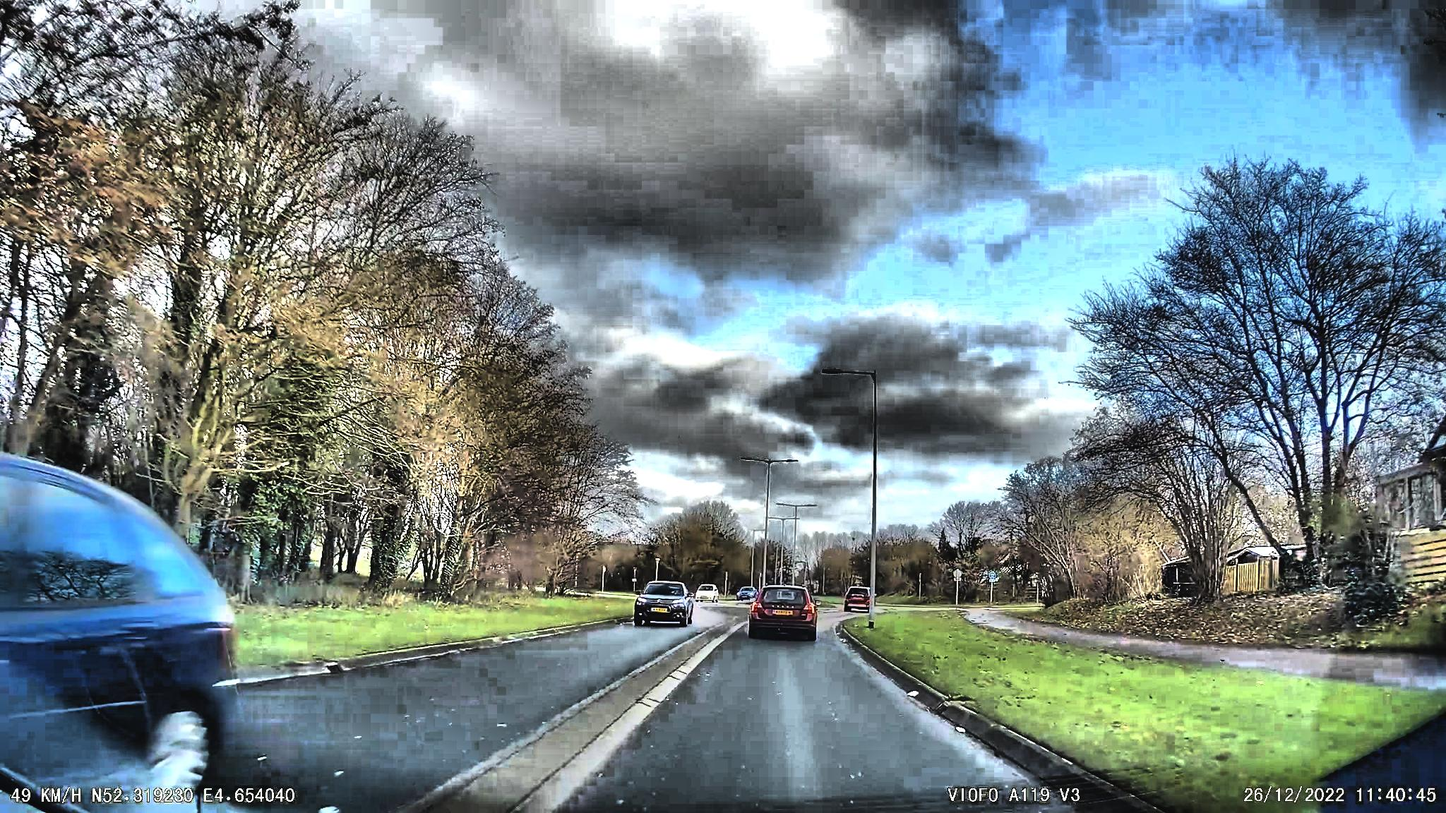Roads: (223, 608, 1169, 813)
